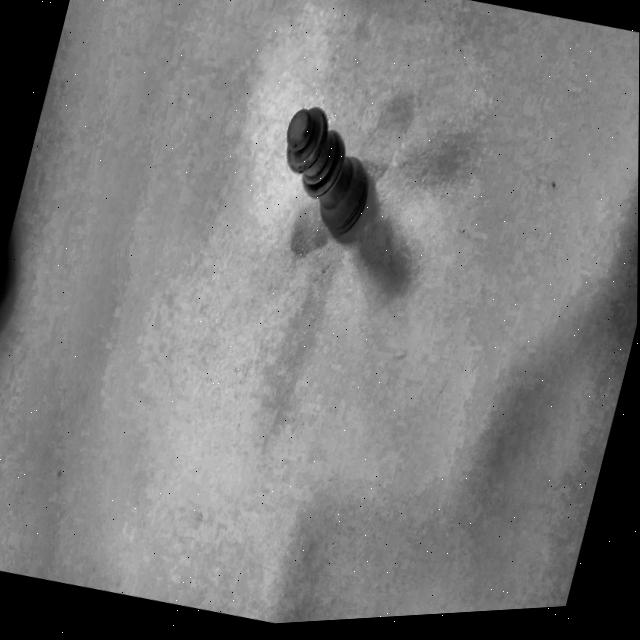white-queen: (215, 29, 435, 297)
